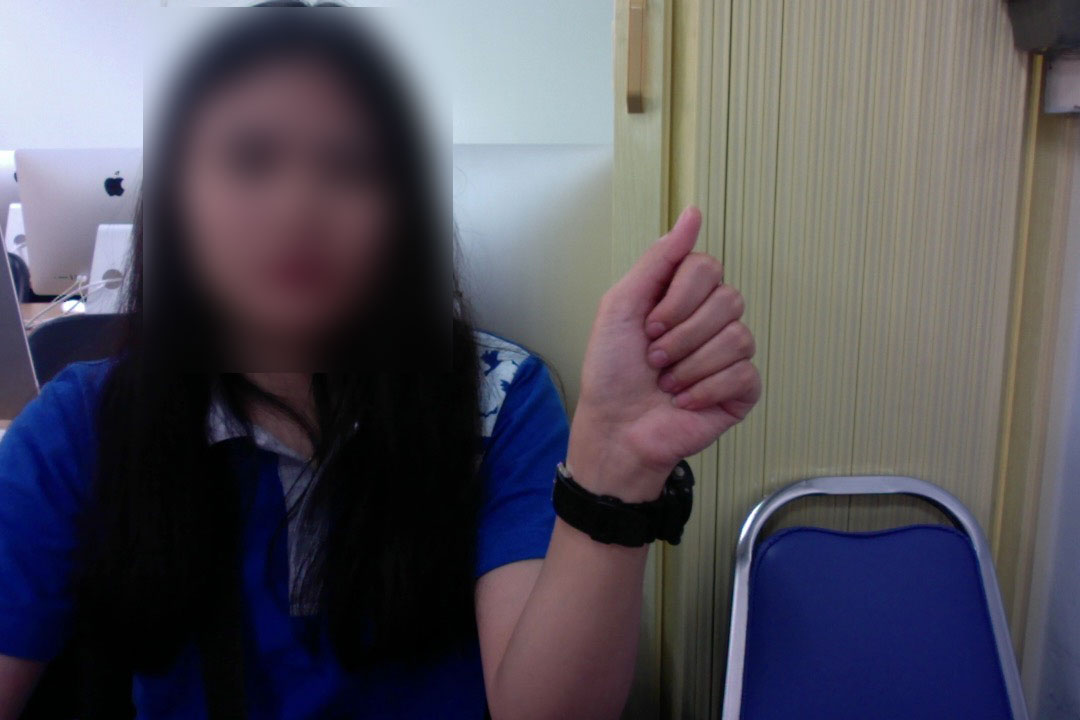or: (560, 196, 767, 472)
